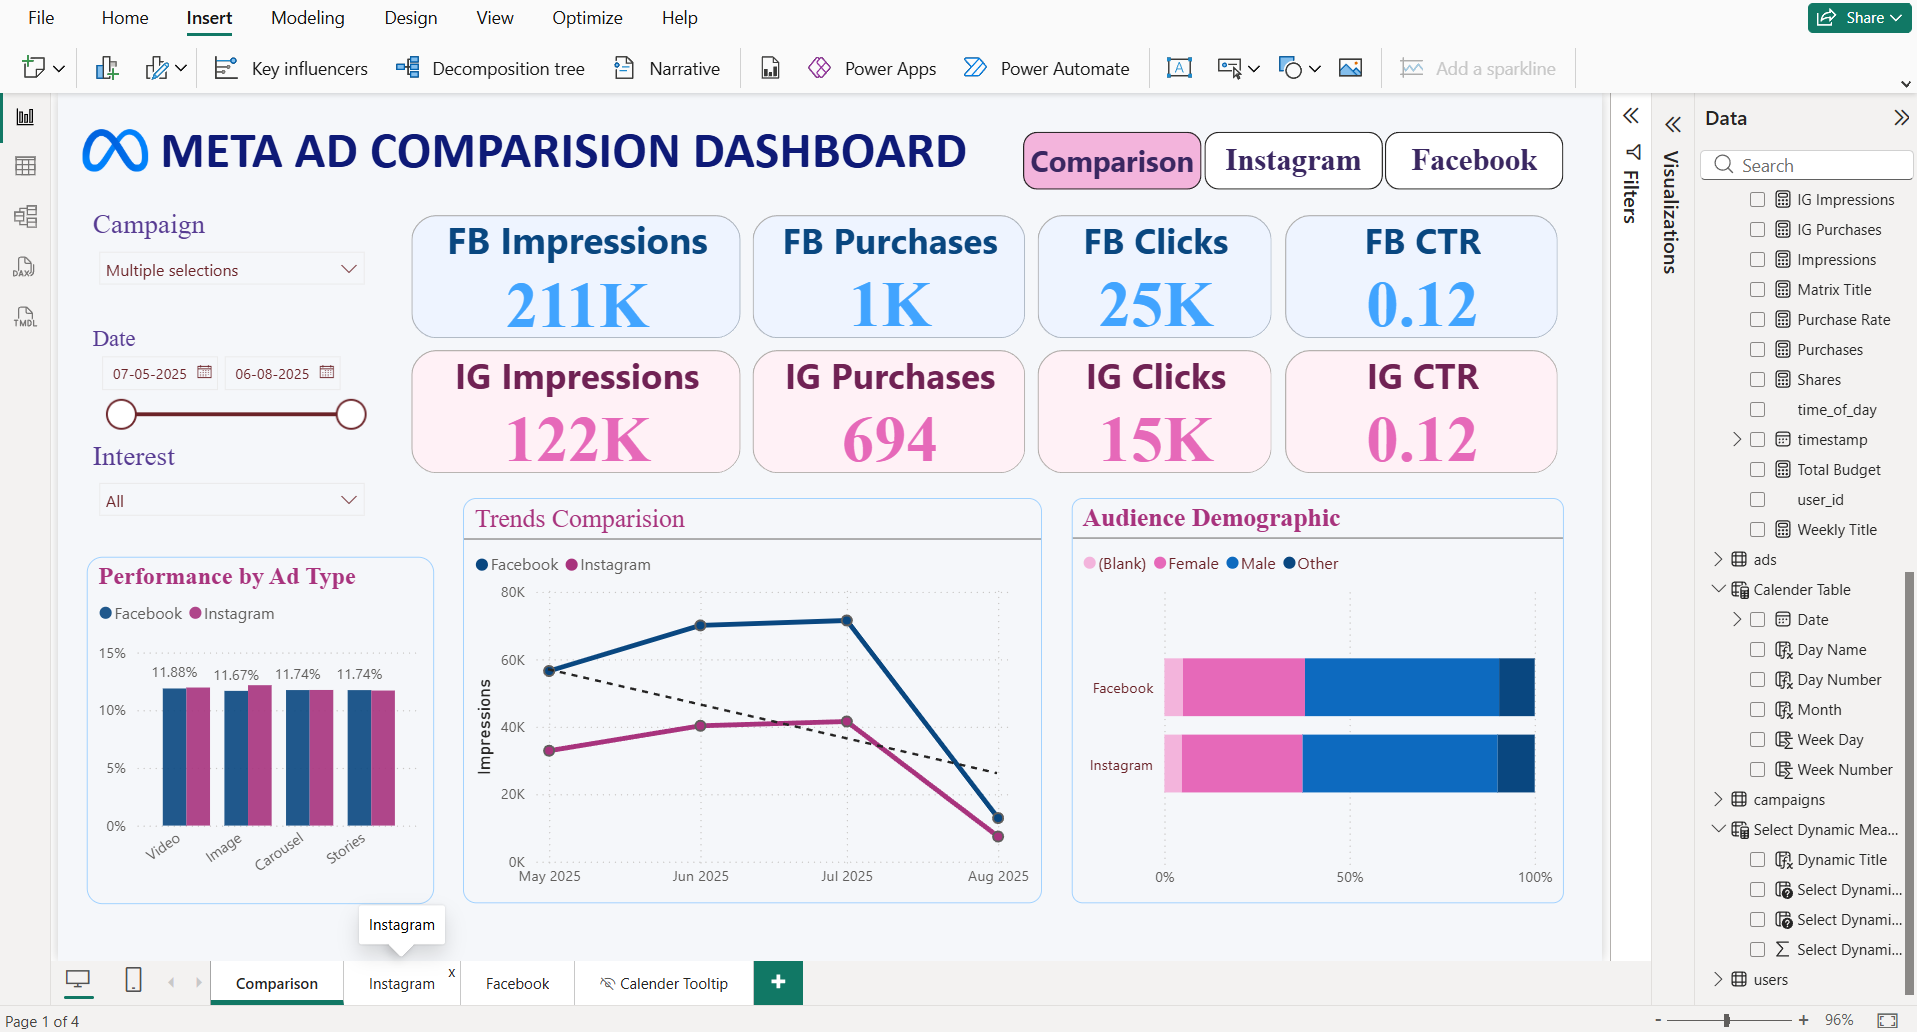

Layout of this report page (visuals, bound fields, positions):
{"tool":"powerbi","page":{"name":"Comparison","canvas":[1280,720],"ordinal":0},"visuals":[{"type":"textbox","box":[80,16,720,64],"z":0},{"type":"cardVisual","fields":{"Data":["ad_events.FB Impressions"]},"box":[288,96,283.3,112],"z":0,"group":"g1"},{"type":"image","box":[16,16,64,64],"z":1000},{"type":"cardVisual","fields":{"Data":["ad_events.FB Clicks"]},"box":[807.3,96,204.6,112],"z":1000,"group":"g1"},{"type":"cardVisual","fields":{"Data":["ad_events.FB Purchases"]},"box":[571.3,96,236.1,112],"z":2000,"group":"g1"},{"type":"lineChart","title":"Trends Comparision","fields":{"Y":["ad_events.Impressions"],"Series":["ads.ad_platform"],"Category":["Calender Table.Date.Variation.Date Hierarchy.Year","Calender Table.Date.Variation.Date Hierarchy.Month"]},"box":[336,336,480,336],"z":2000},{"type":"cardVisual","fields":{"Data":["ad_events.FB CTR"]},"box":[1011.9,96,236.1,112],"z":3000,"group":"g1"},{"type":"slicer","title":"Interest","fields":{"Values":["users.interests"]},"box":[24,288,240,72],"z":3000,"group":"g2"},{"type":"clusteredColumnChart","title":"Performance by Ad Type","fields":{"Category":["ads.ad_type"],"Y":["ad_events.CTR(Click Through Rate)"],"Series":["ads.ad_platform"]},"box":[24,384,288,288],"z":3000},{"type":"cardVisual","fields":{"Data":["ad_events.IG Clicks"]},"box":[807.3,208,204.6,112],"z":4000,"group":"g1"},{"type":"hundredPercentStackedBarChart","title":"Audience Demographic","fields":{"Category":["ads.ad_platform"],"Series":["users.user_gender"],"Y":["ad_events.Engagements"]},"box":[840,336,408,336],"z":4000},{"type":"pageNavigator","box":[800,32,448,48],"z":5000},{"type":"cardVisual","fields":{"Data":["ad_events.IG Impressions"]},"box":[288,208,283.3,112],"z":5000,"group":"g1"},{"type":"group","id":"g1","title":"Group 1","box":[288,96,960,224],"z":6000},{"type":"slicer","title":"Date","fields":{"Values":["Calender Table.Date"]},"box":[24,192,240,96],"z":6000,"group":"g2"},{"type":"cardVisual","fields":{"Data":["ad_events.IG CTR"]},"box":[1011.9,208,236.1,112],"z":6000,"group":"g1"},{"type":"group","id":"g2","title":"Group 2","box":[24,96,240,264],"z":7000},{"type":"slicer","title":"Campaign","fields":{"Values":["campaigns.name"]},"box":[24,96,240,96],"z":7000,"group":"g2"},{"type":"cardVisual","fields":{"Data":["ad_events.IG Purchases"]},"box":[571.3,208,236.1,112],"z":14002,"group":"g1"}]}

Visuals, with their boxes on the page's 1280x720 design canvas (x1, y1, x2, y2). These are canvas units, not pixel positions in the 1917x1032 screenshot, which may show the page scaled, cropped or inside an application window:
textbox: crop(80, 16, 800, 80)
cardVisual - ad_events.FB Impressions: crop(288, 96, 571, 208)
image: crop(16, 16, 80, 80)
cardVisual - ad_events.FB Clicks: crop(807, 96, 1012, 208)
cardVisual - ad_events.FB Purchases: crop(571, 96, 807, 208)
"Trends Comparision" lineChart: crop(336, 336, 816, 672)
cardVisual - ad_events.FB CTR: crop(1012, 96, 1248, 208)
"Interest" slicer: crop(24, 288, 264, 360)
"Performance by Ad Type" clusteredColumnChart: crop(24, 384, 312, 672)
cardVisual - ad_events.IG Clicks: crop(807, 208, 1012, 320)
"Audience Demographic" hundredPercentStackedBarChart: crop(840, 336, 1248, 672)
pageNavigator: crop(800, 32, 1248, 80)
cardVisual - ad_events.IG Impressions: crop(288, 208, 571, 320)
"Group 1" group: crop(288, 96, 1248, 320)
"Date" slicer: crop(24, 192, 264, 288)
cardVisual - ad_events.IG CTR: crop(1012, 208, 1248, 320)
"Group 2" group: crop(24, 96, 264, 360)
"Campaign" slicer: crop(24, 96, 264, 192)
cardVisual - ad_events.IG Purchases: crop(571, 208, 807, 320)
